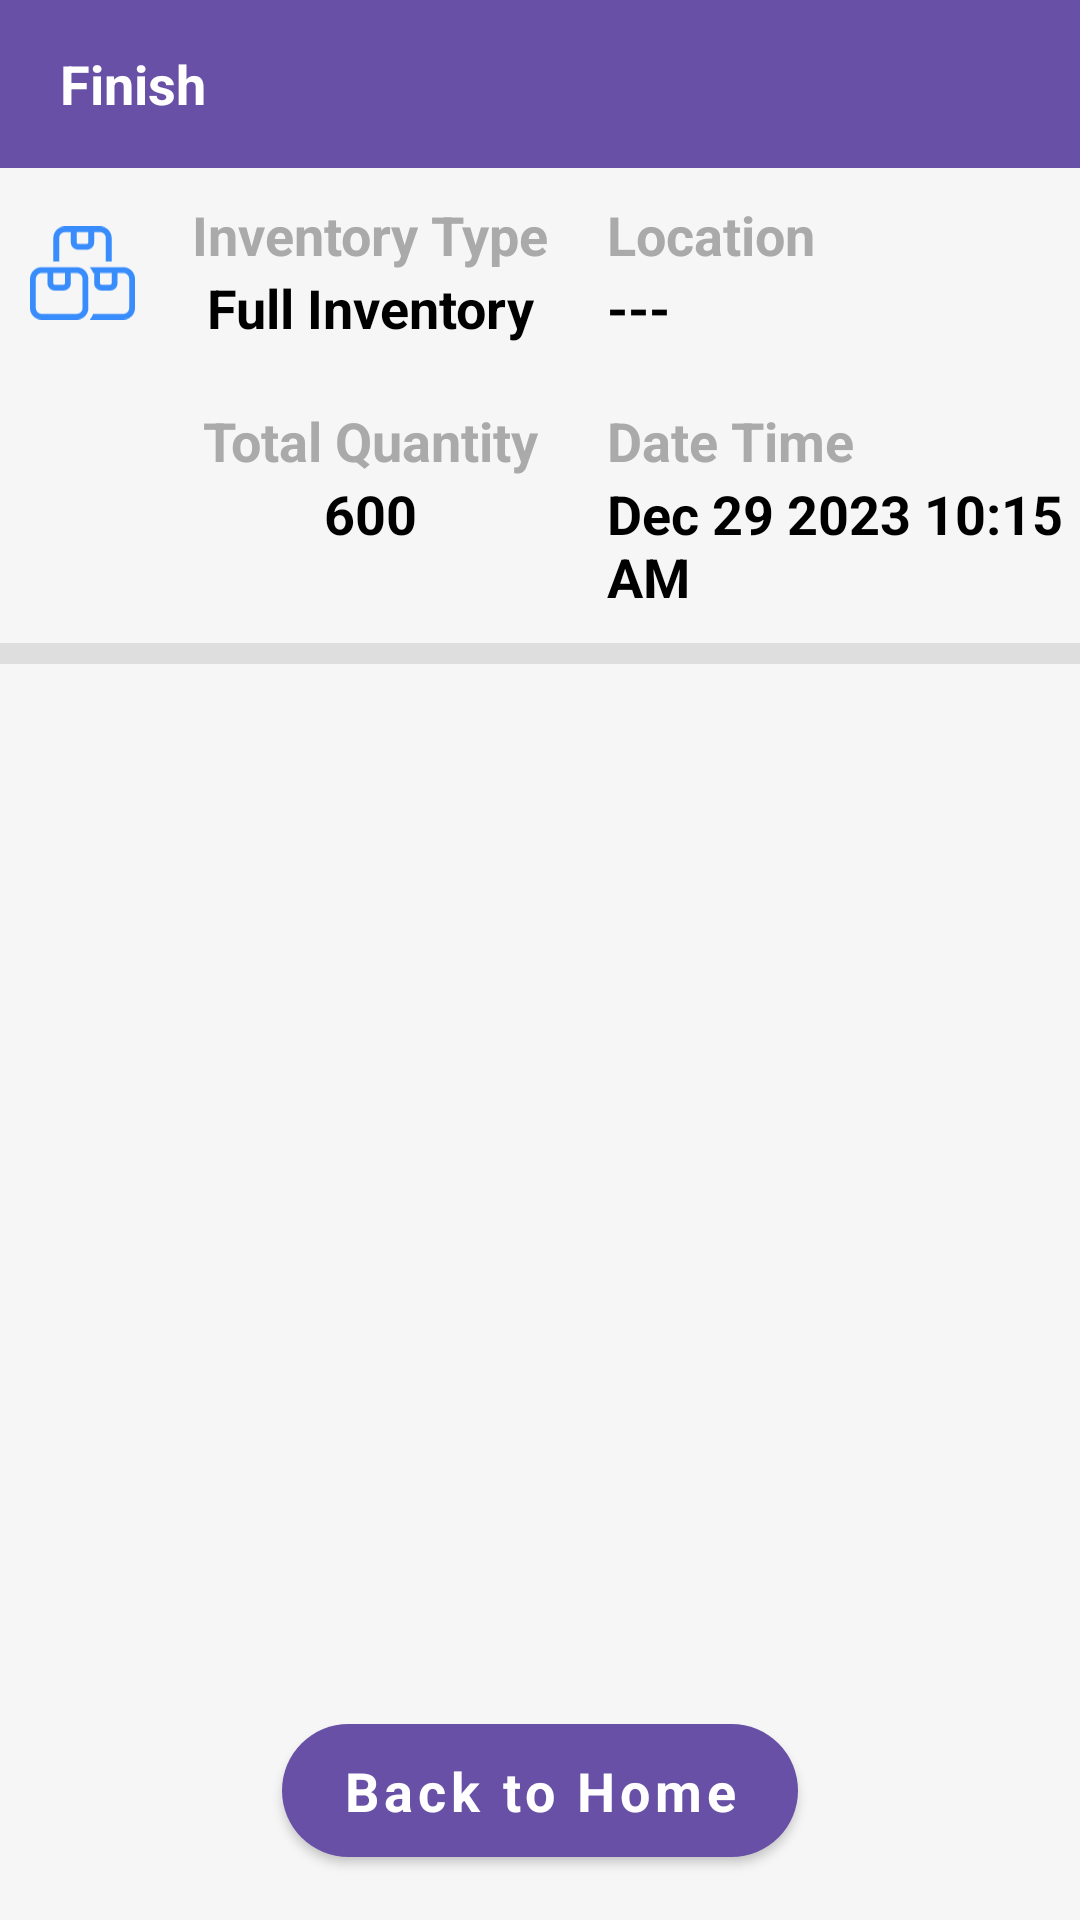

Screen size 1080px x 1920px. Icon name, then its center in pixels as [x,y]:
boxes stacked: [82,273]
